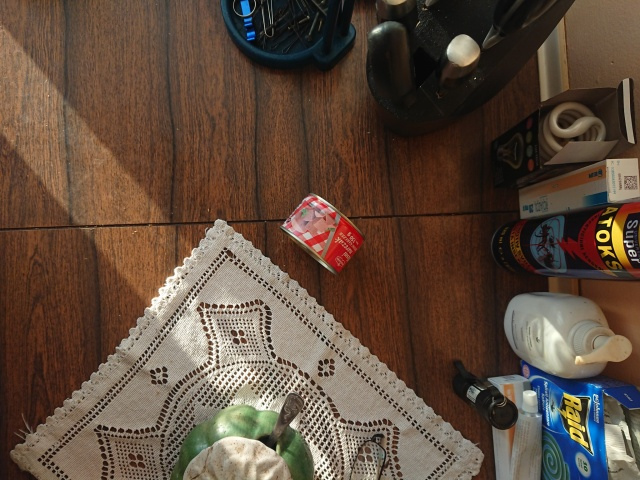Podravka Luncheon Meat 150g: (276, 189, 370, 278)
